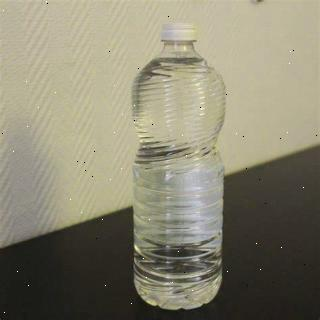Plastic-bottle: (121, 8, 248, 320)
